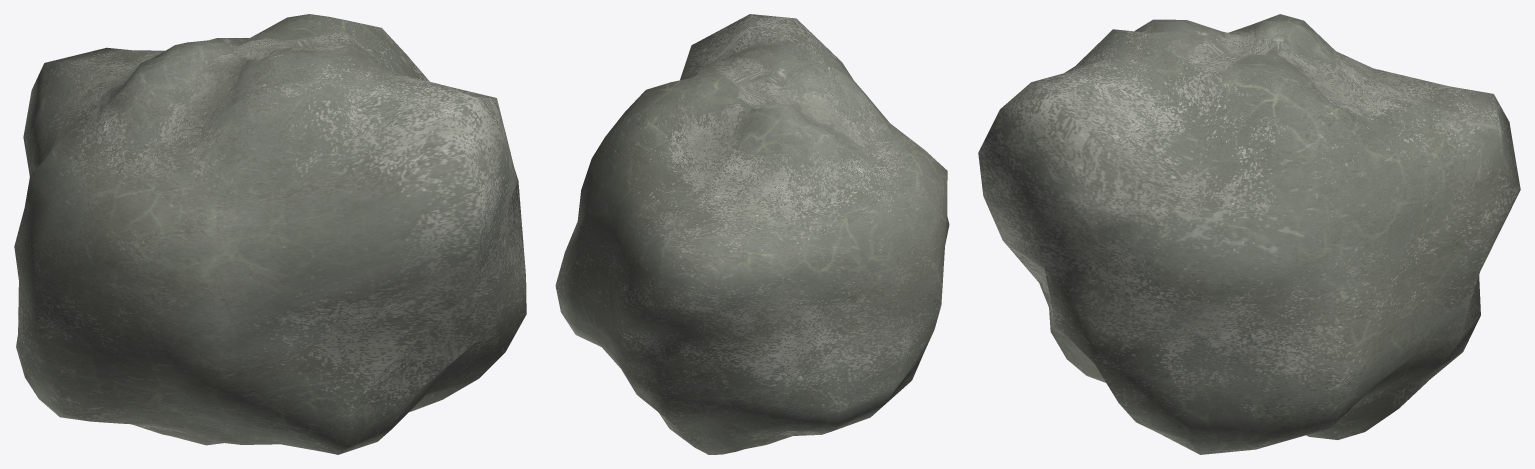
Rendered from stone 1.fbx.
3 views of the same model, side by side, from view 1: azimuth 30°, elevation 25°; view 2: azimuth 150°, elevation 25°; view 3: azimuth 270°, elevation 25° (orthographic). The views are drawn at different scales.
Parts seen in each view (by area): view 1: pSphere1; view 2: pSphere1; view 3: pSphere1.
Part boxes in pixels (box(x1,y1,x2,y2)): pSphere1: box(14, 14, 526, 454); pSphere1: box(555, 14, 949, 454); pSphere1: box(978, 14, 1520, 454).
Size of the model in its own units: 66 by 62.33 by 74.55.
